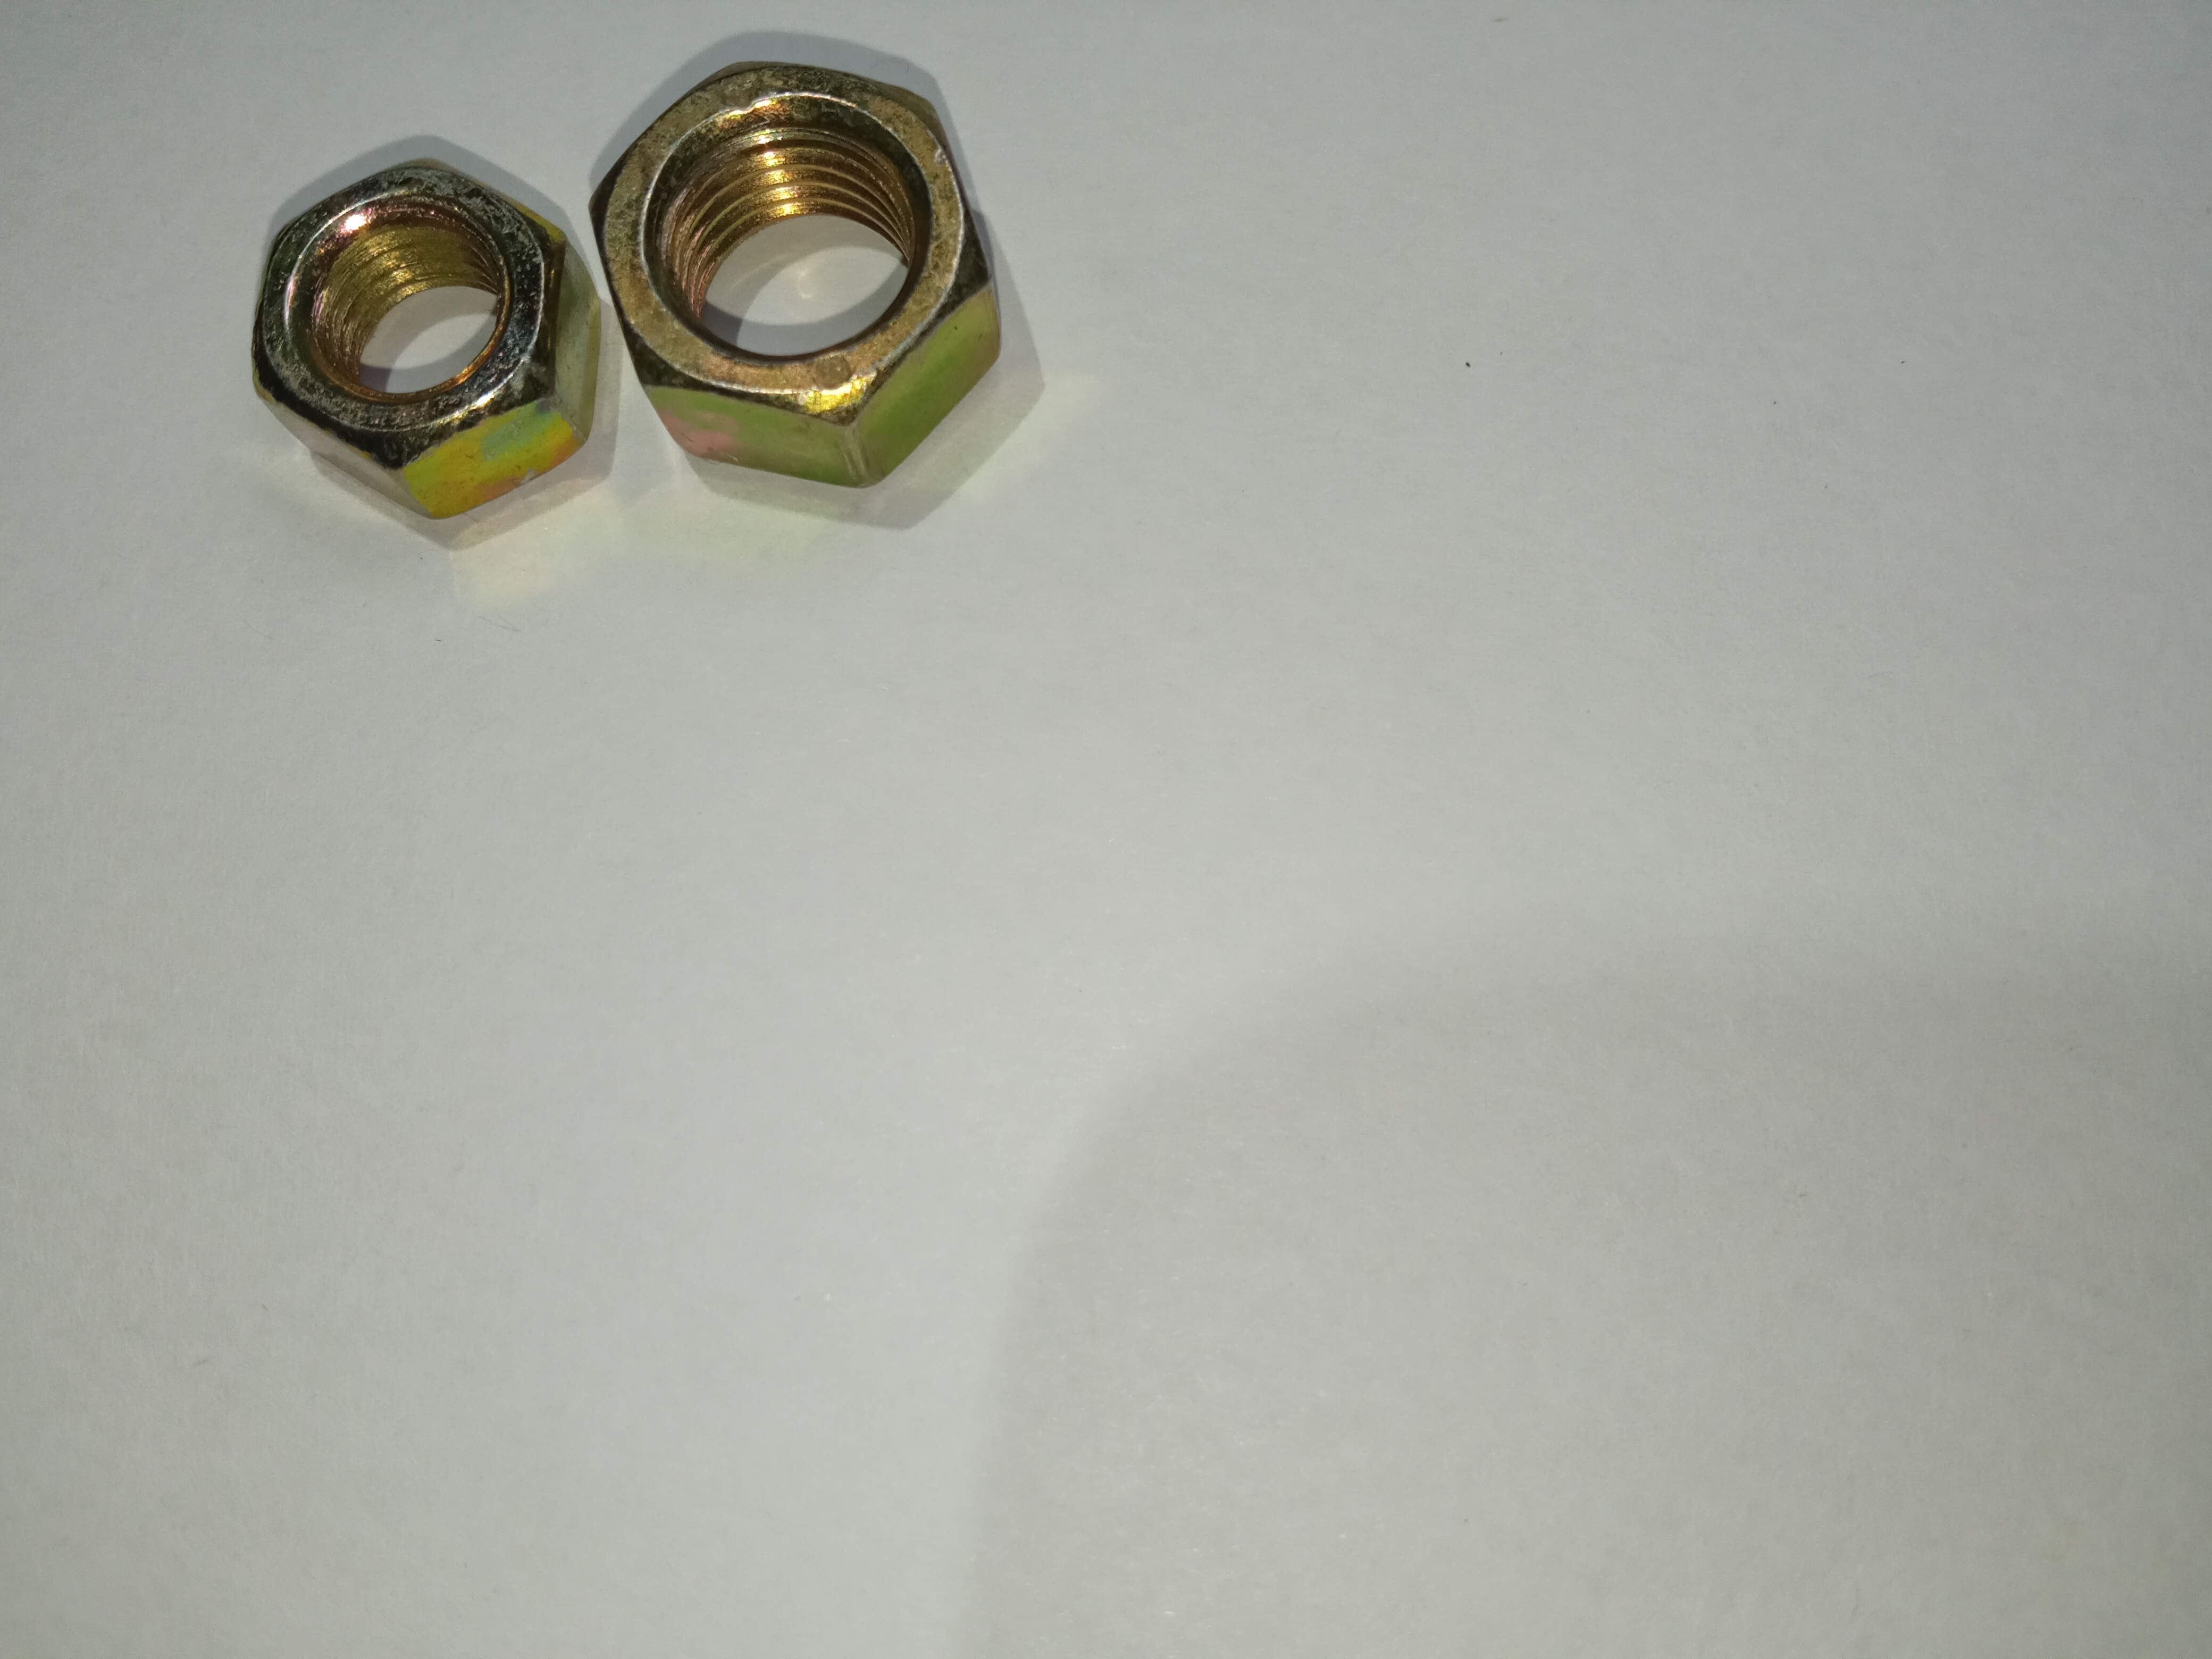m10: (620, 80, 986, 429)
m8: (256, 169, 575, 500)
